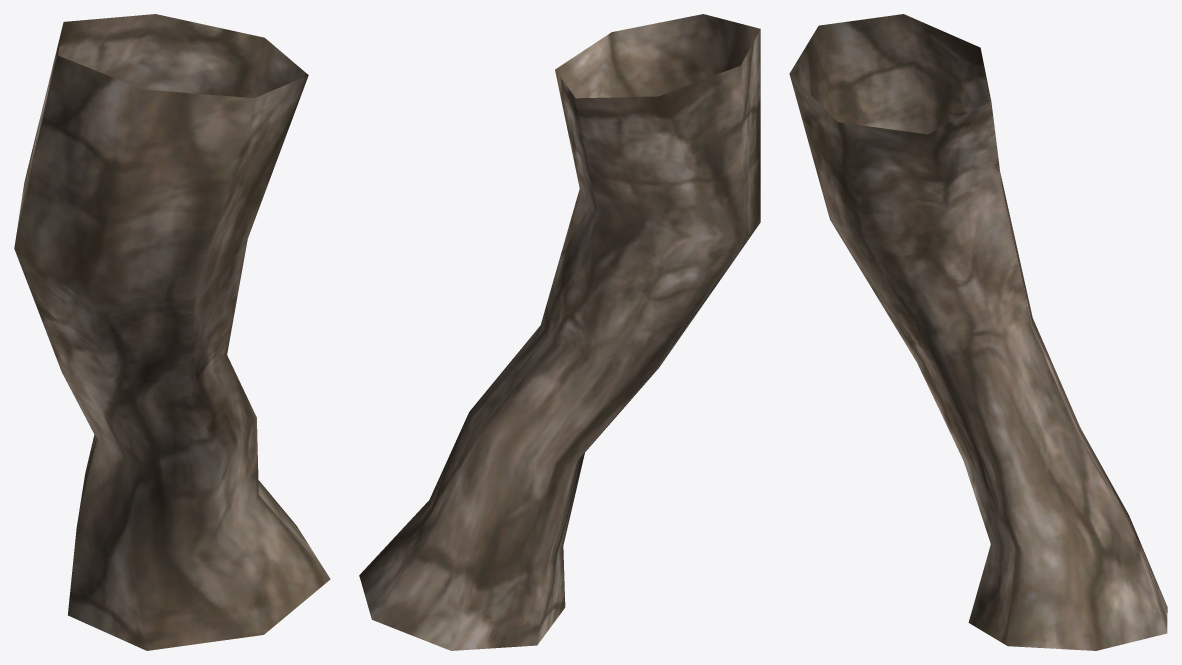
Rendered from EKH_JAIL_PS_JA_PILLAR363534.fbx.
3 renders of one model, left to right at view 1: azimuth 30°, elevation 25°; view 2: azimuth 150°, elevation 25°; view 3: azimuth 270°, elevation 25°, orthographic. The views are drawn at different scales.
Parts seen in each view (by area): view 1: EKH_JAIL_PS_JA_PILLAR363534; view 2: EKH_JAIL_PS_JA_PILLAR363534; view 3: EKH_JAIL_PS_JA_PILLAR363534.
Part boxes in pixels (x1,y1,x2,y2): EKH_JAIL_PS_JA_PILLAR363534: (14,14,330,650); EKH_JAIL_PS_JA_PILLAR363534: (359,14,760,650); EKH_JAIL_PS_JA_PILLAR363534: (789,14,1167,650).
Bounding box in the file's own units: 26908 × 45406 × 29557.
Materials: 1 (1 with a texture image).
